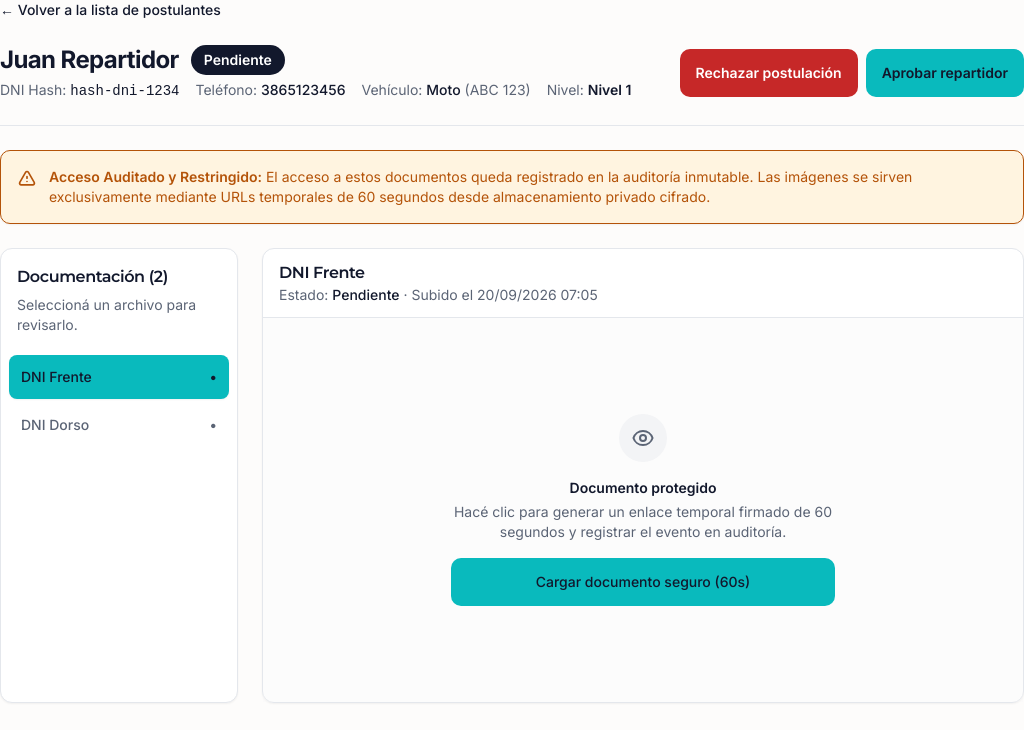
ApplicantDetailView (PR106-H14, PR106-H13, PR106-H16) › 2. carga el documento auditado de 60s al presionar Cargar documento seguro
Click the button "Cargar documento seguro (60s)".
click(643, 582)  # box [451,558,835,606]
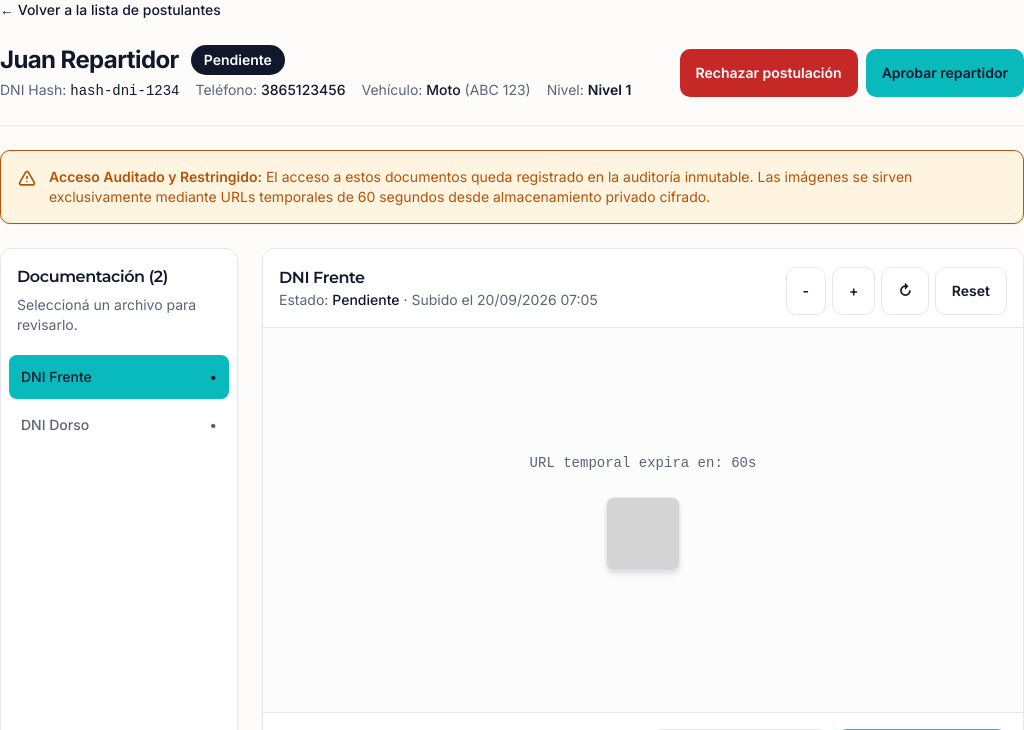
Result: the text "URL temporal expira en: 60s" is shown at [530,453,756,473]
